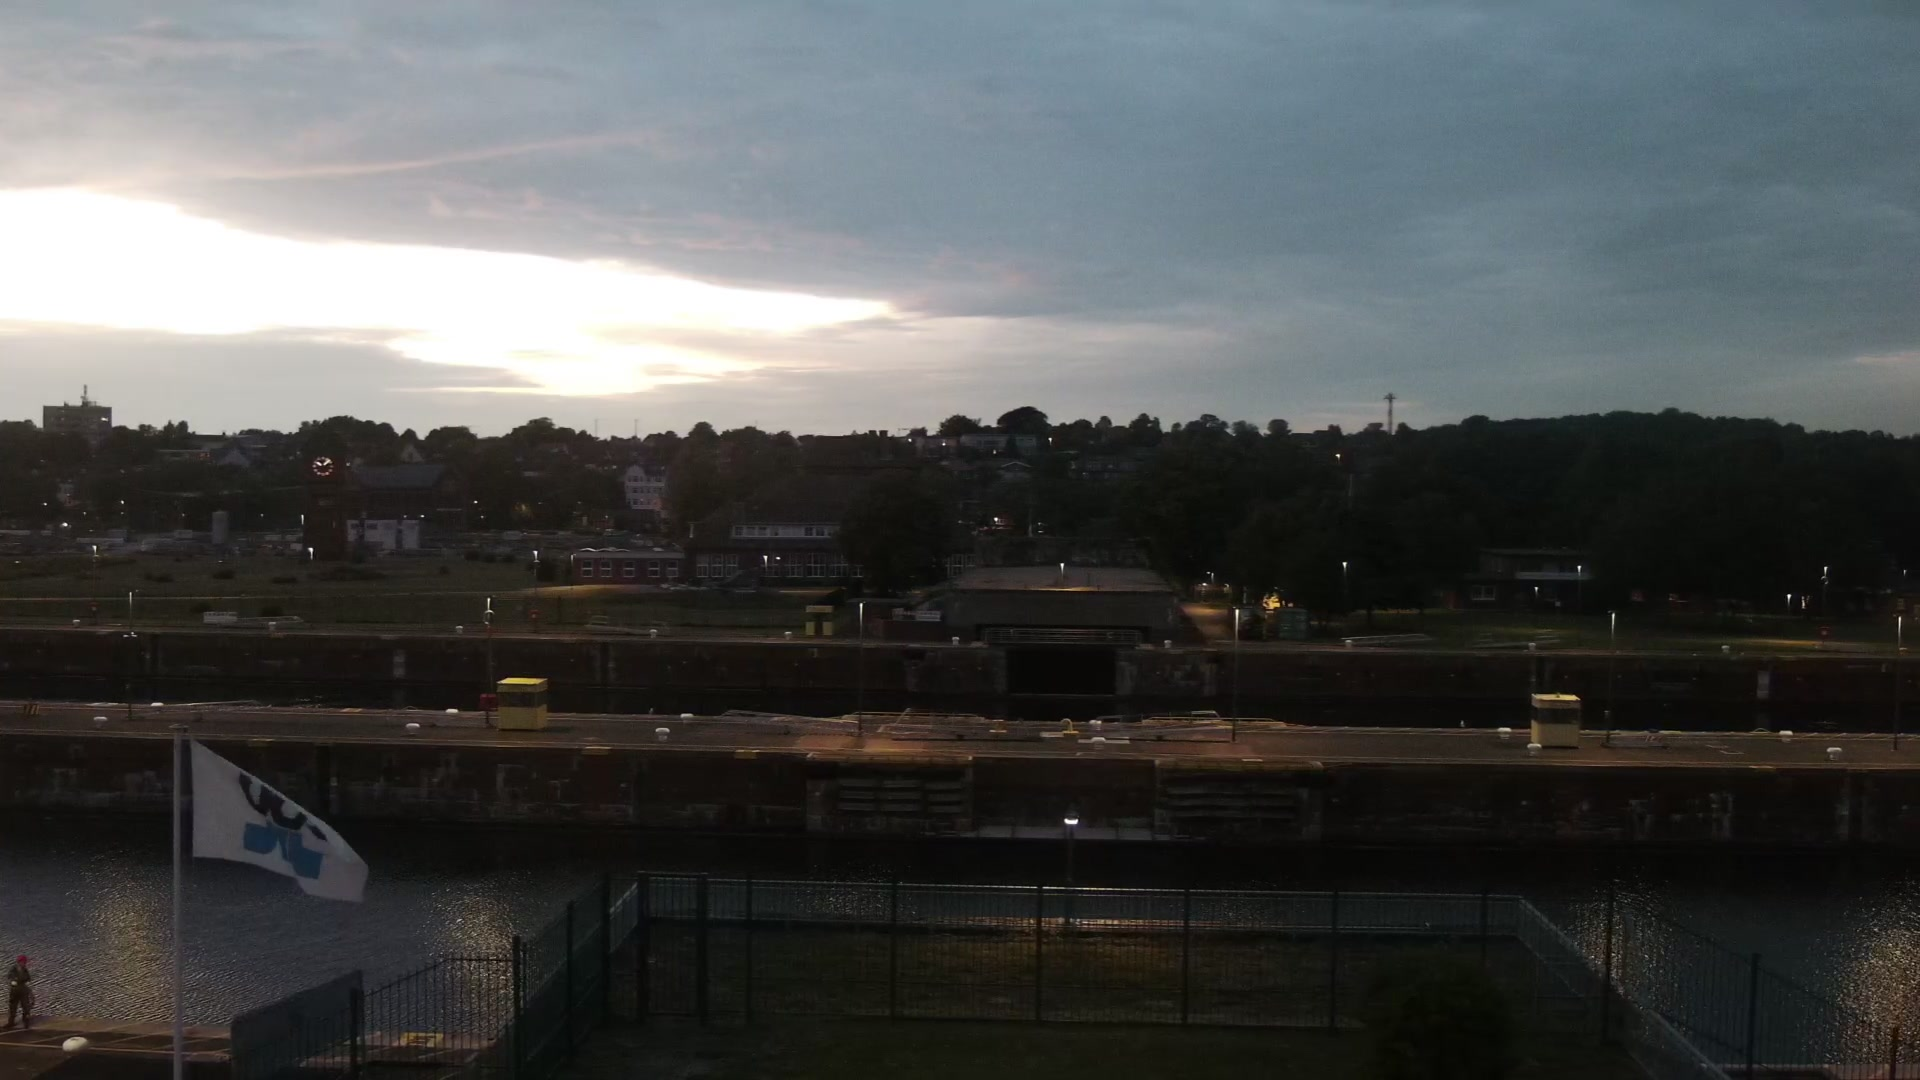human: (4, 953, 37, 1031)
